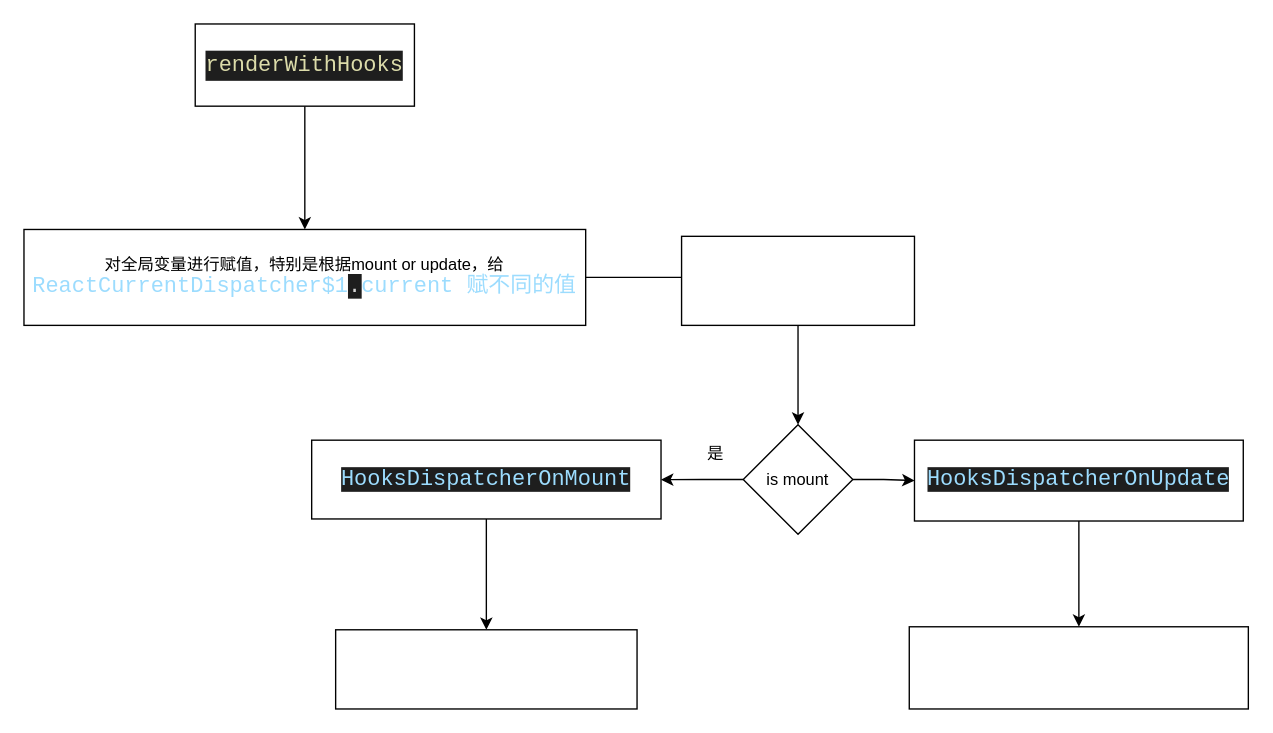
This 1273x733 diagram has some shape labels left out. The shapes that lost their labels are listed below. From the top down, each one's centre as x and y in pixels, then its label:
At [797,280]: "调用FunctionComponent函数".
At [485,668]: "mountWorkInProgressHook".
At [1078,667]: "updateWorkInProgressHook".
